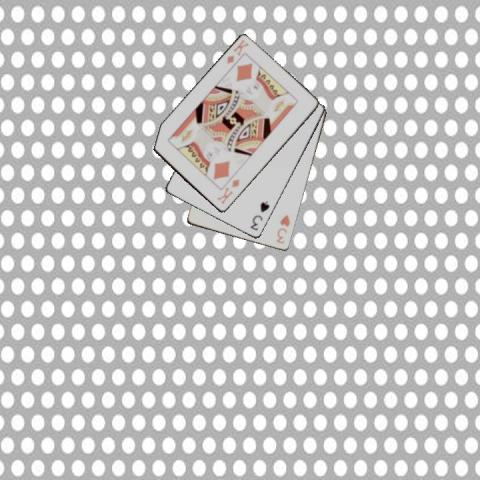3h: (273, 212, 292, 245)
3s: (247, 199, 271, 232)
Kd: (214, 176, 241, 205), (223, 37, 250, 65)
